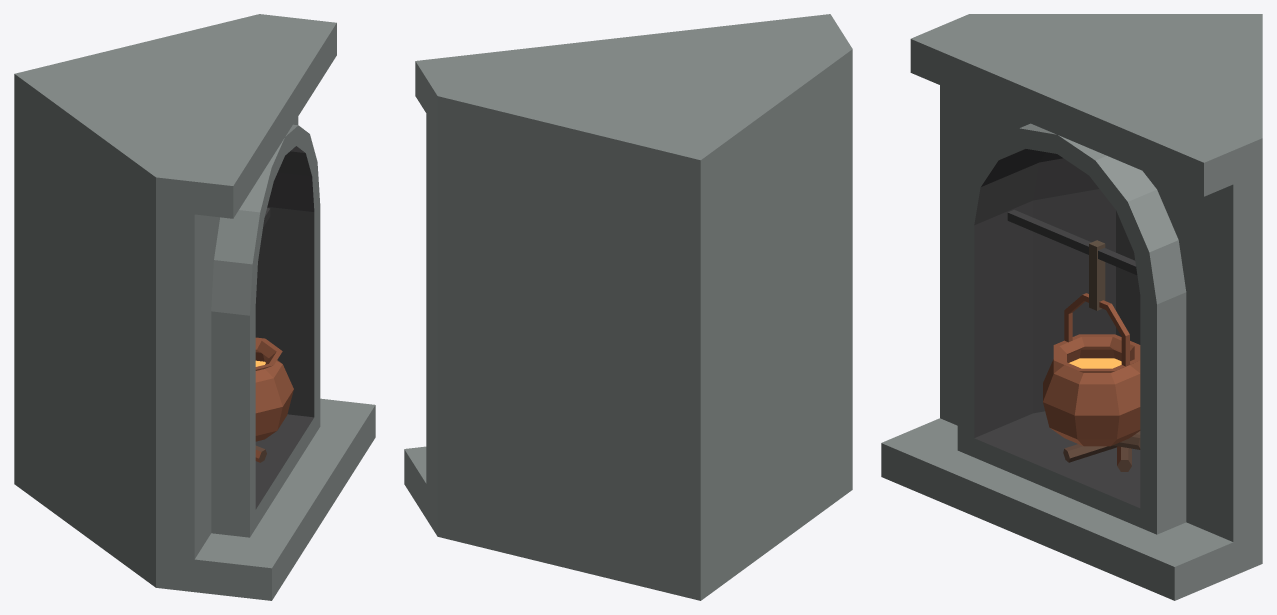
The model's file is obj_fire_place_1_3x1_3x1_6_c20911.glb.
3 renders of one model, left to right at view 1: azimuth 30°, elevation 25°; view 2: azimuth 150°, elevation 25°; view 3: azimuth 270°, elevation 25°, orthographic. The views are drawn at different scales.
Visible parts, largest first — view 1: obj_fire_place_1_3x1_3x1_6_c20911; view 2: obj_fire_place_1_3x1_3x1_6_c20911; view 3: obj_fire_place_1_3x1_3x1_6_c20911.
Part boxes in pixels (x1=…): obj_fire_place_1_3x1_3x1_6_c20911: x1=14, y1=14, x2=375, y2=600; obj_fire_place_1_3x1_3x1_6_c20911: x1=404, y1=14, x2=852, y2=600; obj_fire_place_1_3x1_3x1_6_c20911: x1=881, y1=14, x2=1262, y2=600.
Bounding box in the file's own units: 0.8937 × 1.1 × 0.8938.
